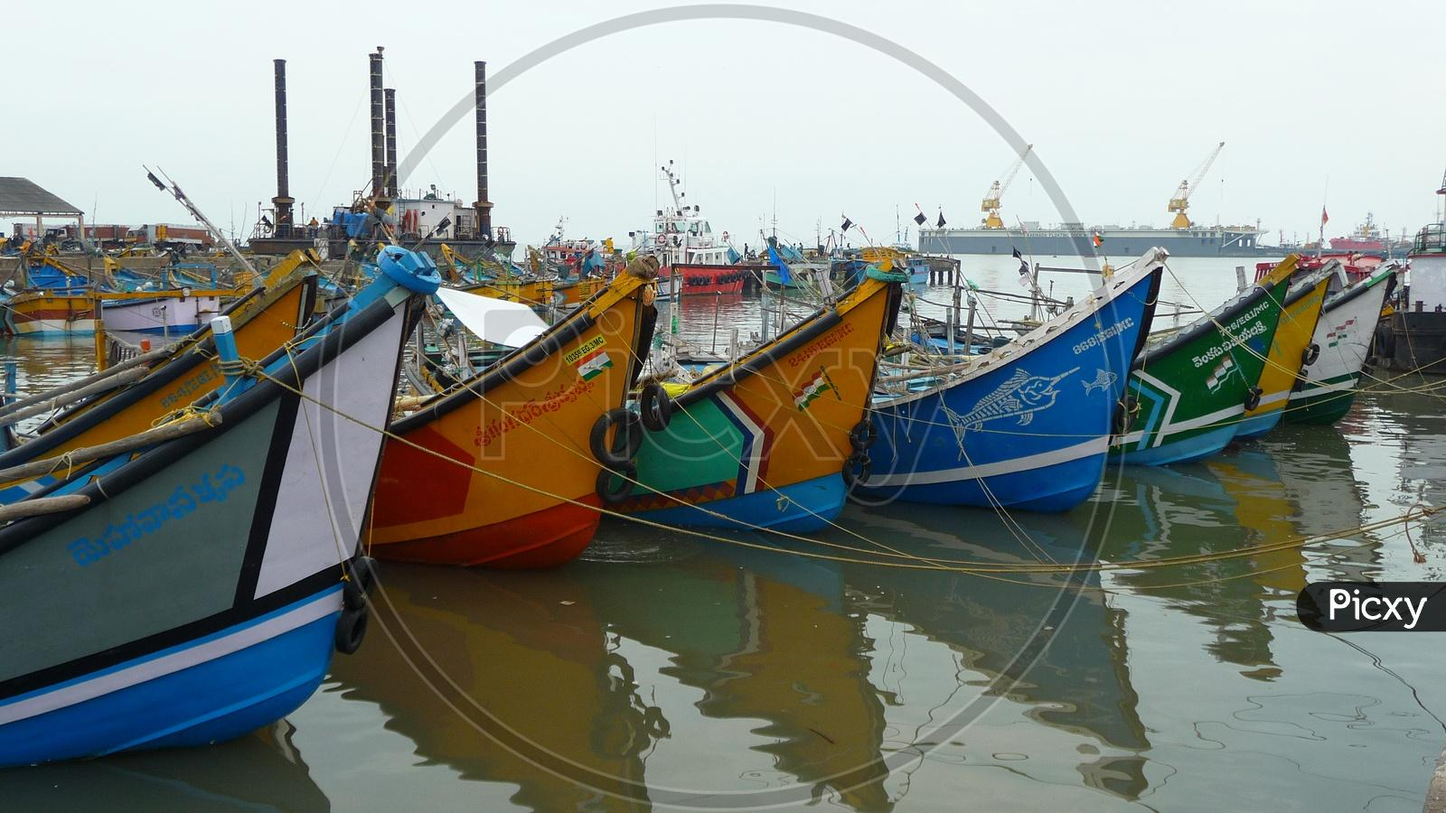fishing boat: (17, 239, 227, 338), (628, 172, 750, 294), (436, 243, 555, 305), (849, 204, 933, 288), (758, 216, 847, 288)
